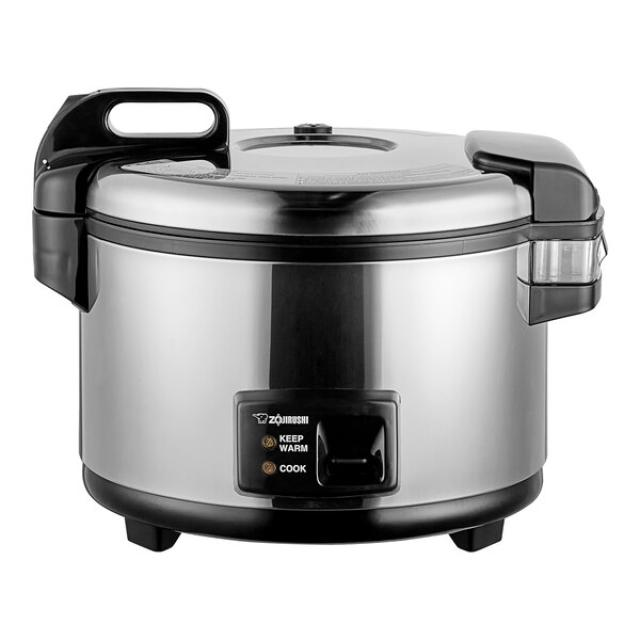appliances: (34, 90, 603, 548)
